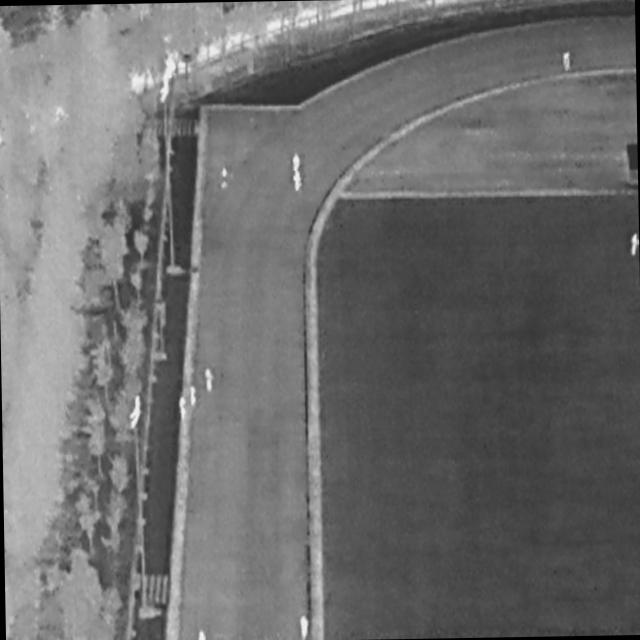person: (205, 368, 214, 393), (294, 170, 303, 193), (302, 615, 310, 640), (180, 397, 188, 421), (632, 233, 639, 258), (222, 168, 229, 192), (294, 153, 301, 176), (191, 386, 198, 407), (564, 53, 571, 72), (196, 630, 206, 640)
